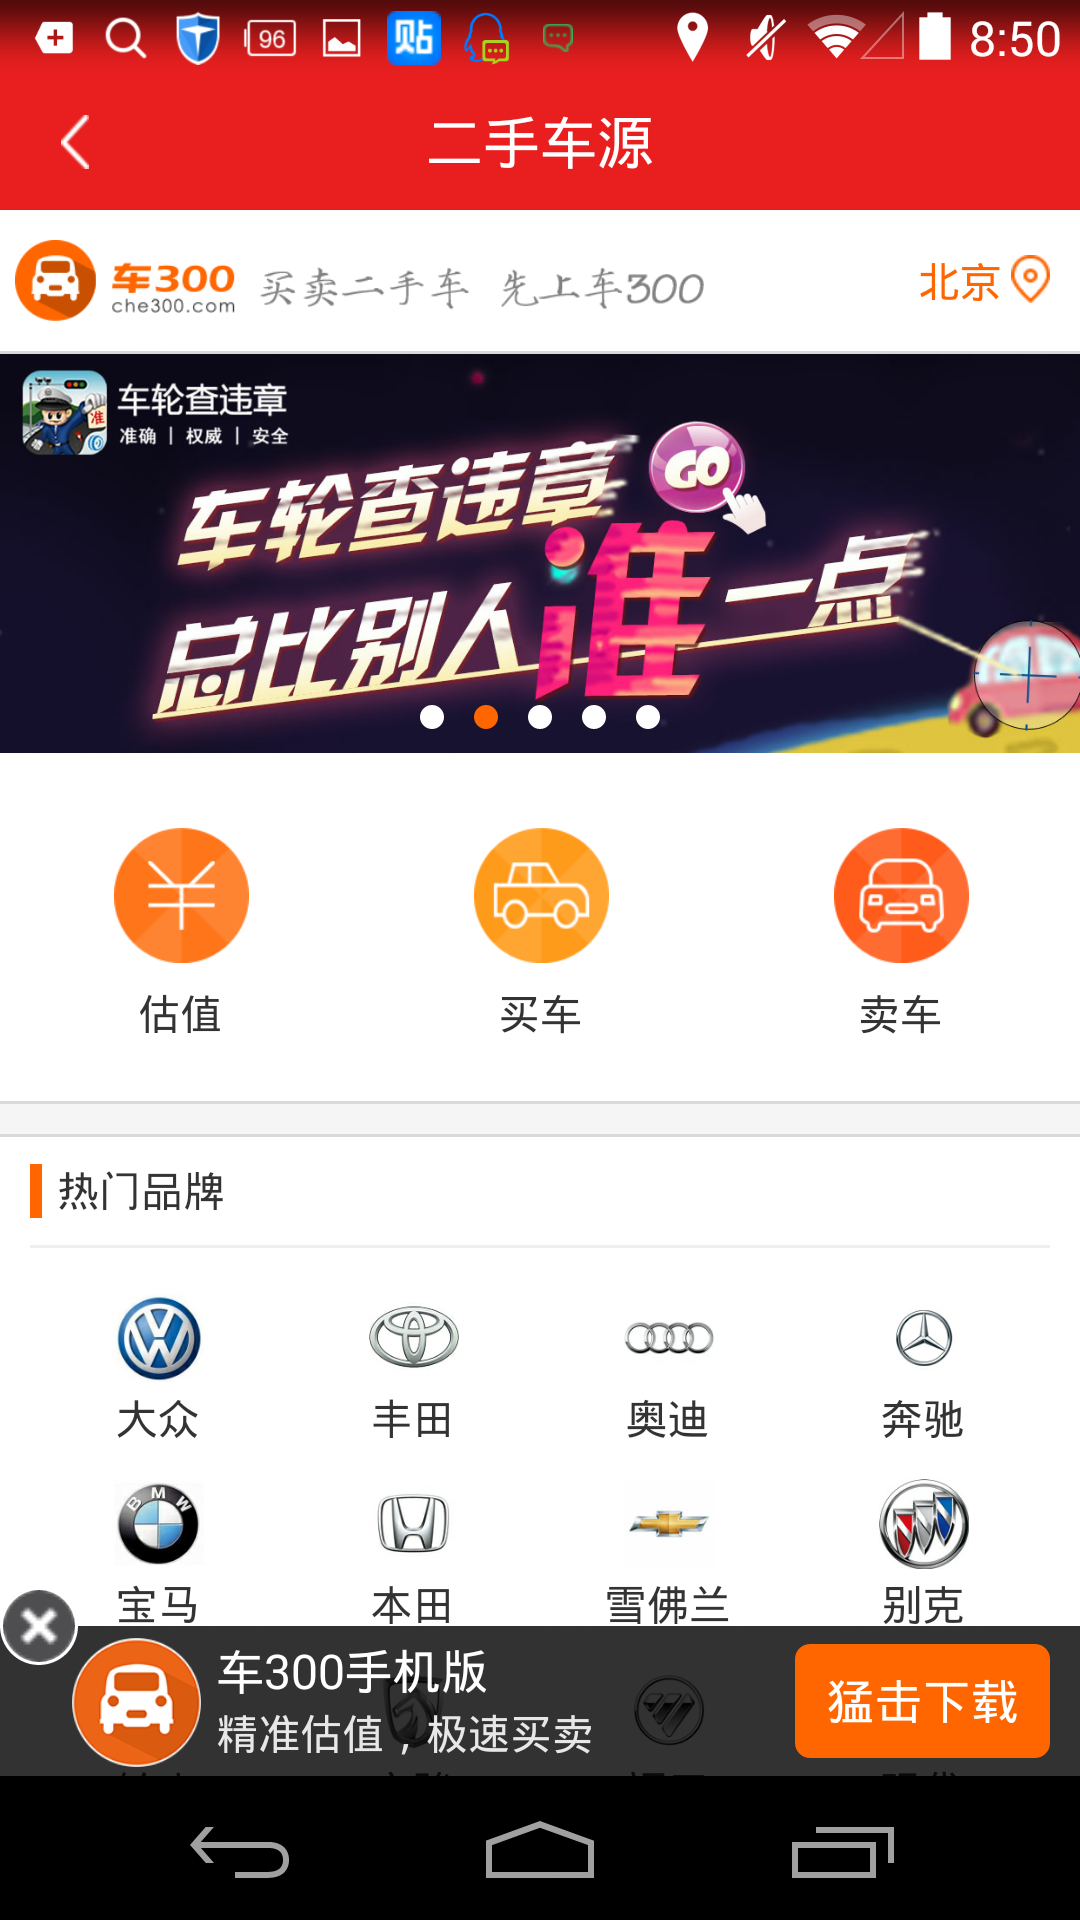alert: (8, 1589, 1065, 1808)
button: (789, 1640, 1060, 1768)
nav: (21, 1145, 1067, 1610), (25, 781, 1080, 1063)
